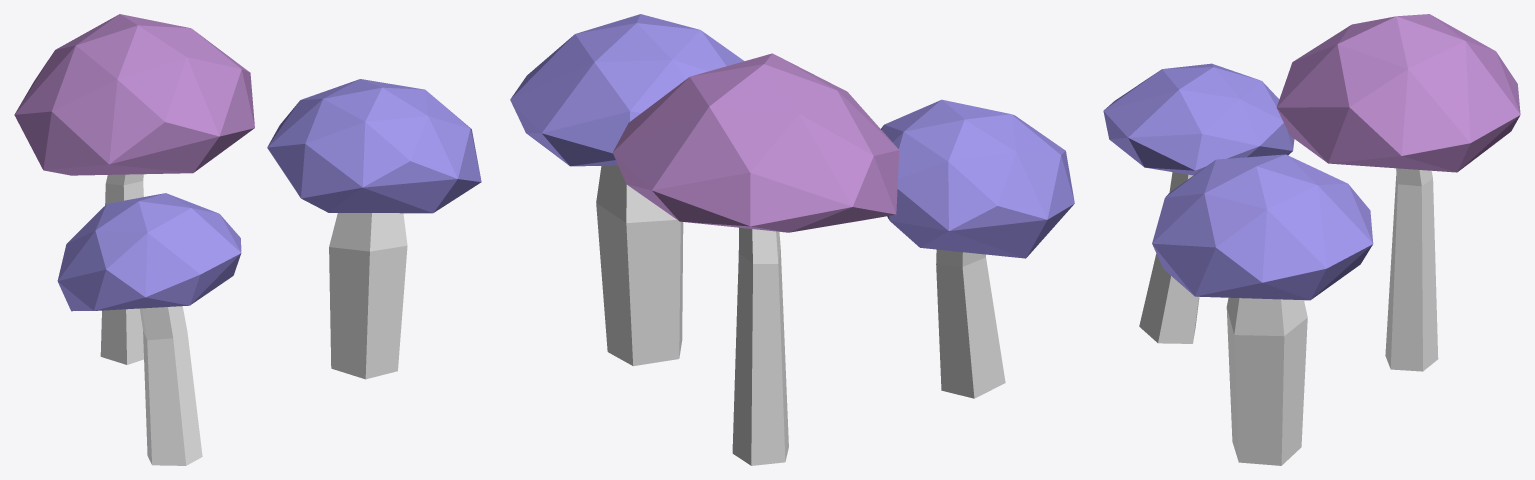
Rendered from Mushroom_k_07.fbx.
3 views of the same model, side by side, from view 1: azimuth 30°, elevation 25°; view 2: azimuth 150°, elevation 25°; view 3: azimuth 270°, elevation 25° (orthographic). The views are drawn at different scales.
Parts seen in each view (by area): view 1: Mushroom_k_07; view 2: Mushroom_k_07; view 3: Mushroom_k_07.
Part boxes in pixels (x1=…): Mushroom_k_07: x1=14, y1=14, x2=481, y2=465; Mushroom_k_07: x1=510, y1=14, x2=1074, y2=465; Mushroom_k_07: x1=1103, y1=14, x2=1520, y2=465.
Bounding box in the file's own units: 0.6266 × 0.4709 × 0.4993.
